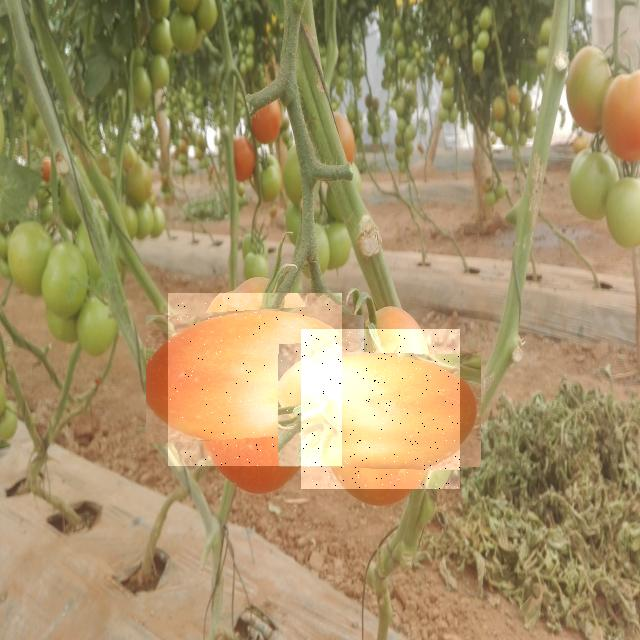Ripe Tomato: (168, 293, 342, 466), (301, 329, 460, 489)
